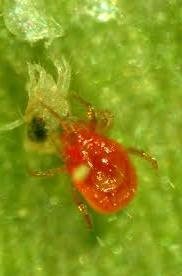Mites: (41, 94, 156, 237)
